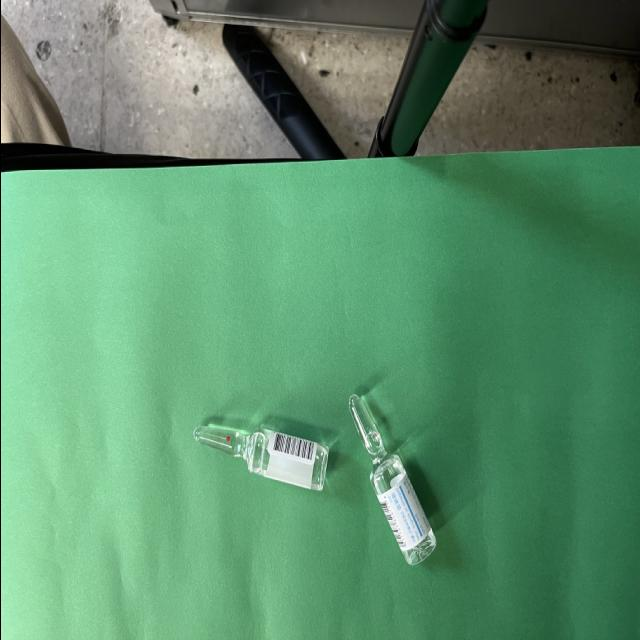Ampoules: (348, 395, 436, 564), (193, 423, 328, 490)
